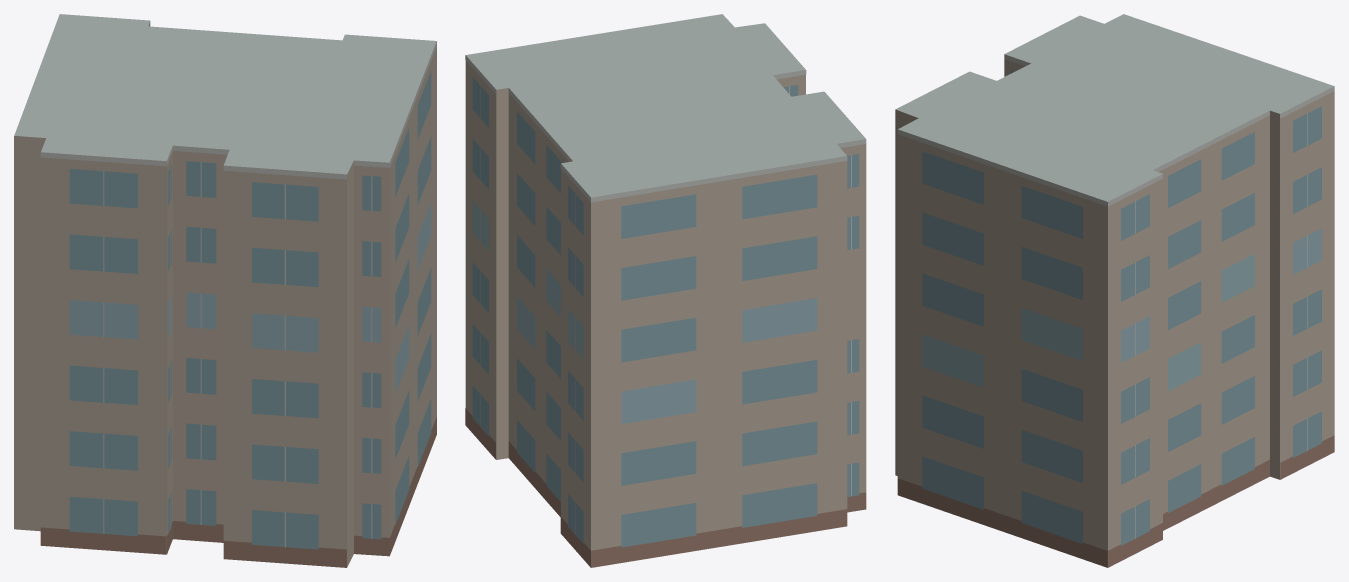
File: survey-upis-32920976.glb
3 views of the same model, side by side, from view 1: azimuth 30°, elevation 25°; view 2: azimuth 150°, elevation 25°; view 3: azimuth 270°, elevation 25° (orthographic). The views are drawn at different scales.
Visible parts, largest first — view 1: survey-upis-32920976.tmp; view 2: survey-upis-32920976.tmp; view 3: survey-upis-32920976.tmp.
Boxes of the visible parts, x1=… form: survey-upis-32920976.tmp: x1=14, y1=14, x2=436, y2=567; survey-upis-32920976.tmp: x1=465, y1=14, x2=866, y2=567; survey-upis-32920976.tmp: x1=895, y1=14, x2=1334, y2=567.
Size of the model in its own units: 20.49 by 18.6 by 20.24.
